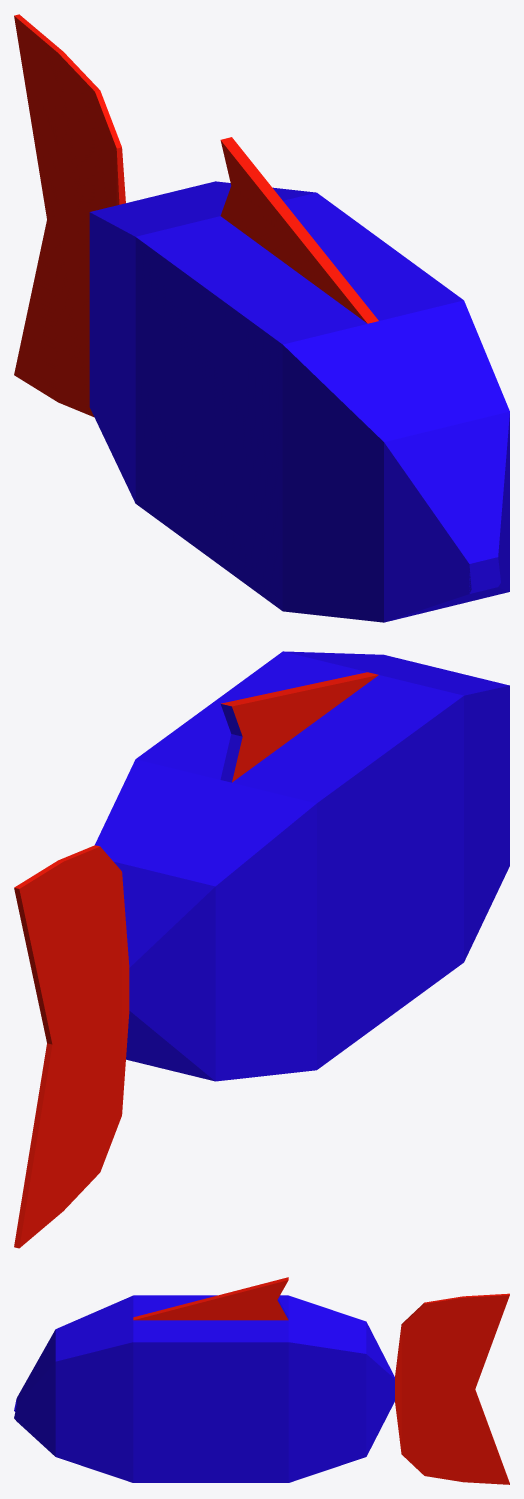
File: FishBlueRed.fbx
3 views of the same model, one above another, from view 1: azimuth 30°, elevation 25°; view 2: azimuth 150°, elevation 25°; view 3: azimuth 270°, elevation 25° (orthographic). The views are drawn at different scales.
Parts seen in each view (by area): view 1: fish; view 2: fish; view 3: fish.
Boxes of the visible parts, x1,y1,x2,y2 form: fish: [14, 14, 509, 622]; fish: [14, 651, 509, 1248]; fish: [14, 1277, 509, 1484].
Size of the model in its own units: 142 by 292 by 638.
